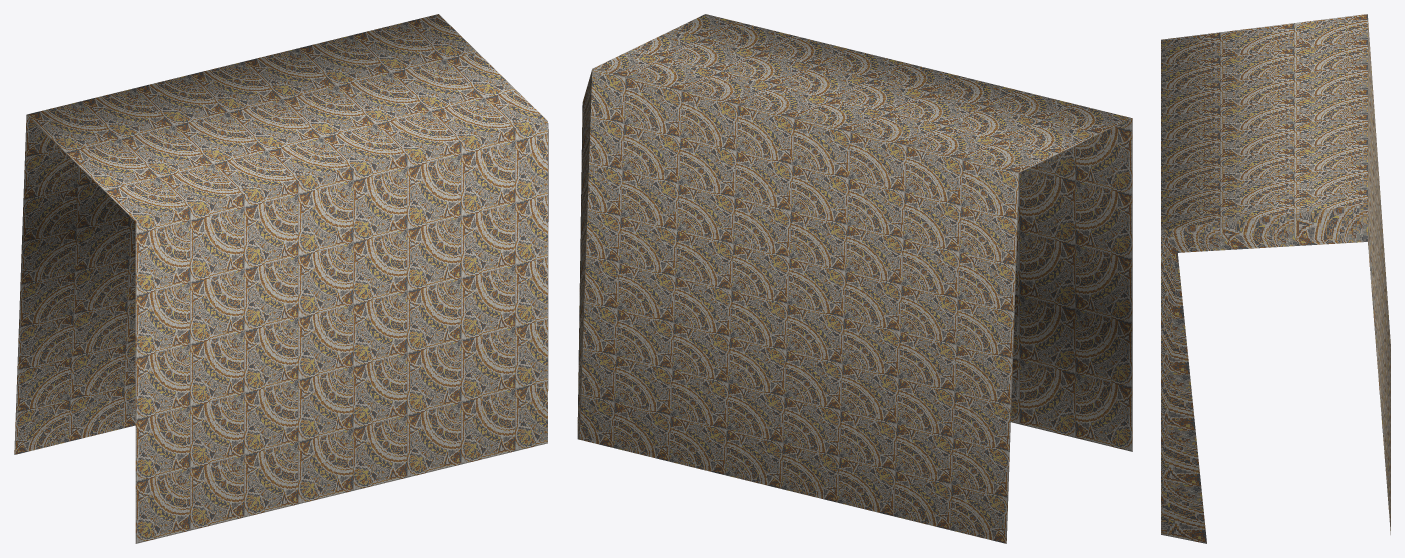
File: 4637floor000_c.gltf
3 renders of one model, left to right at view 1: azimuth 30°, elevation 25°; view 2: azimuth 150°, elevation 25°; view 3: azimuth 270°, elevation 25°, orthographic. The views are drawn at different scales.
Parts seen in each view (by area): view 1: 4637floor000_c; view 2: 4637floor000_c; view 3: 4637floor000_c.
Boxes of the visible parts, <box> form: 4637floor000_c: <box>14,14,548,543</box>; 4637floor000_c: <box>577,14,1132,543</box>; 4637floor000_c: <box>1161,14,1390,543</box>.
Bounding box in the file's own units: 2.05 × 1.59 × 1.
Materials: 1 (1 with a texture image).
